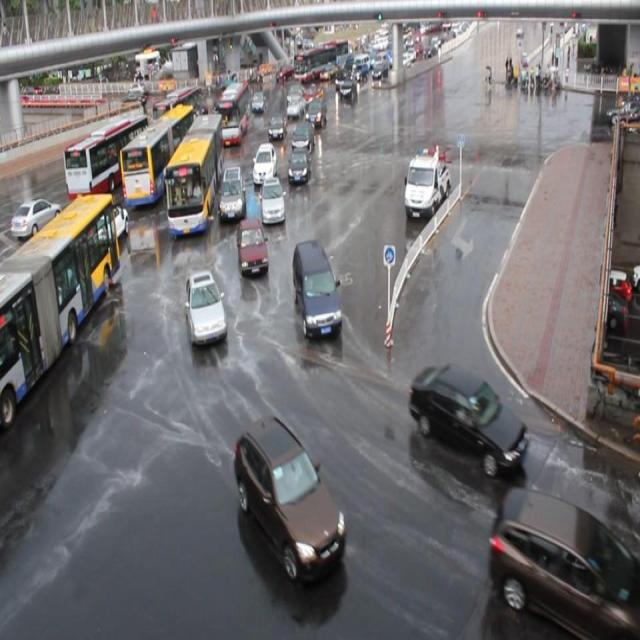bus: (404, 146, 451, 220)
car: (493, 483, 639, 640), (235, 419, 346, 584), (411, 360, 528, 478), (292, 238, 345, 340), (185, 268, 227, 346), (239, 218, 269, 279), (86, 201, 129, 243), (12, 198, 60, 235), (220, 166, 245, 218), (259, 175, 284, 223), (252, 144, 274, 182), (288, 146, 309, 182), (305, 94, 326, 129), (292, 117, 312, 152), (267, 111, 288, 140), (287, 97, 304, 119), (250, 90, 266, 111)
van: (1, 194, 124, 430), (119, 98, 194, 210), (64, 114, 151, 204), (165, 112, 225, 238), (217, 73, 253, 144), (154, 87, 202, 131)
